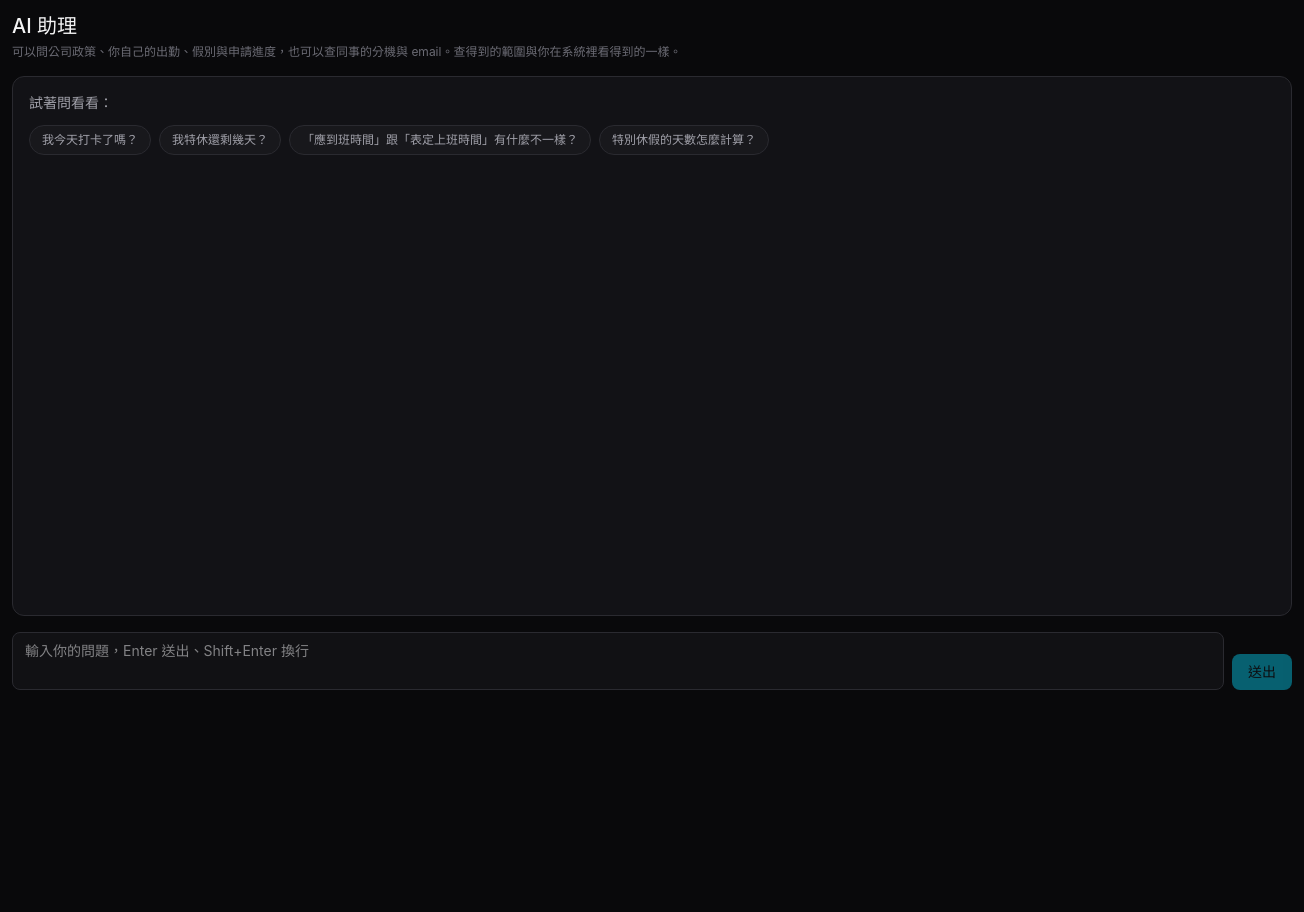
Test: 送出問題後顯示回答與依據來源
Step 1. Type "特別休假怎麼算？" into the text box with placeholder "輸入你的問題，Enter 送出、Shift+Enter 換行" → (618,661), box x1=12 y1=632 x2=1224 y2=690
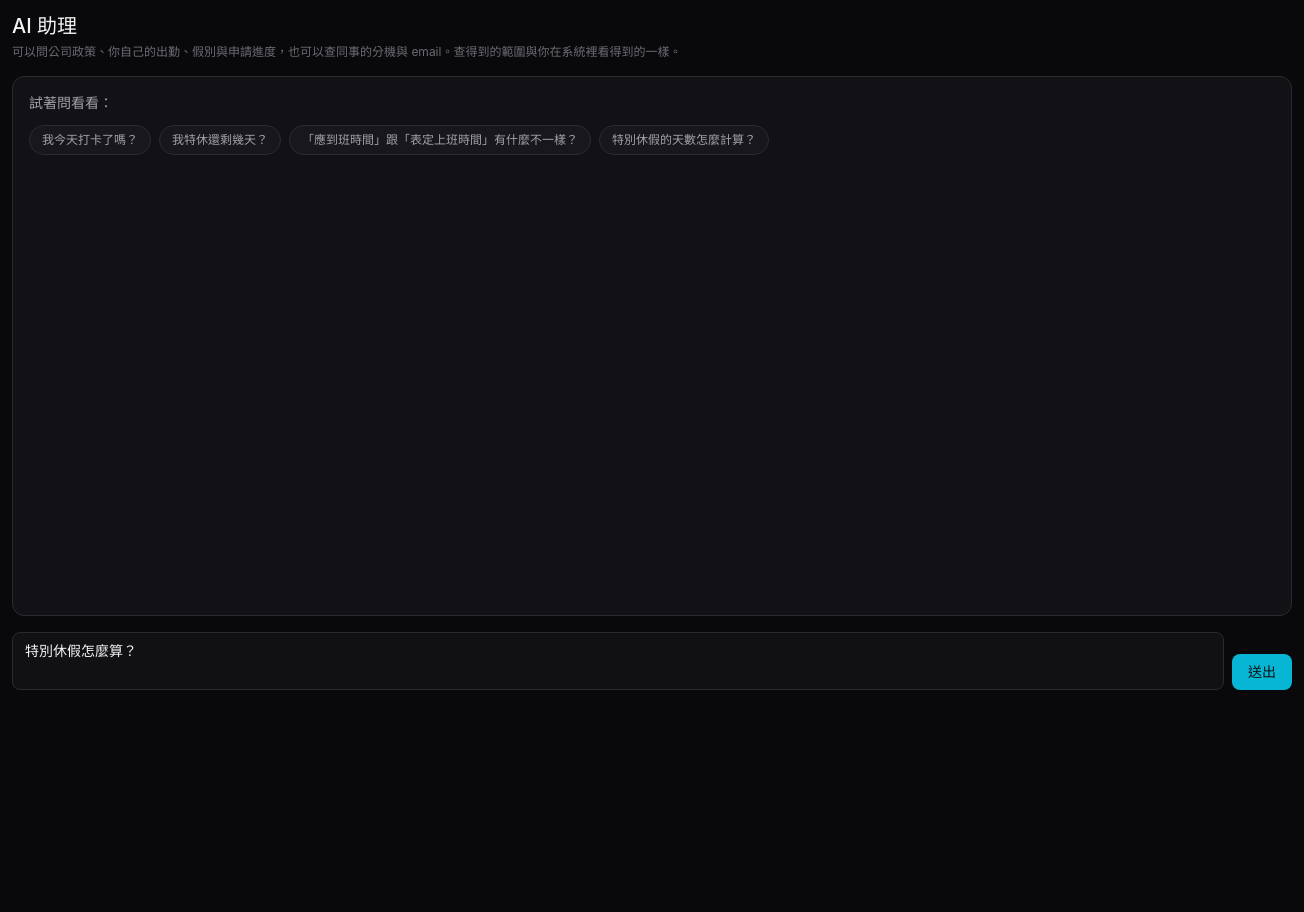
Step 2. Click the button "送出" → (1262,672), box x1=1232 y1=654 x2=1292 y2=690
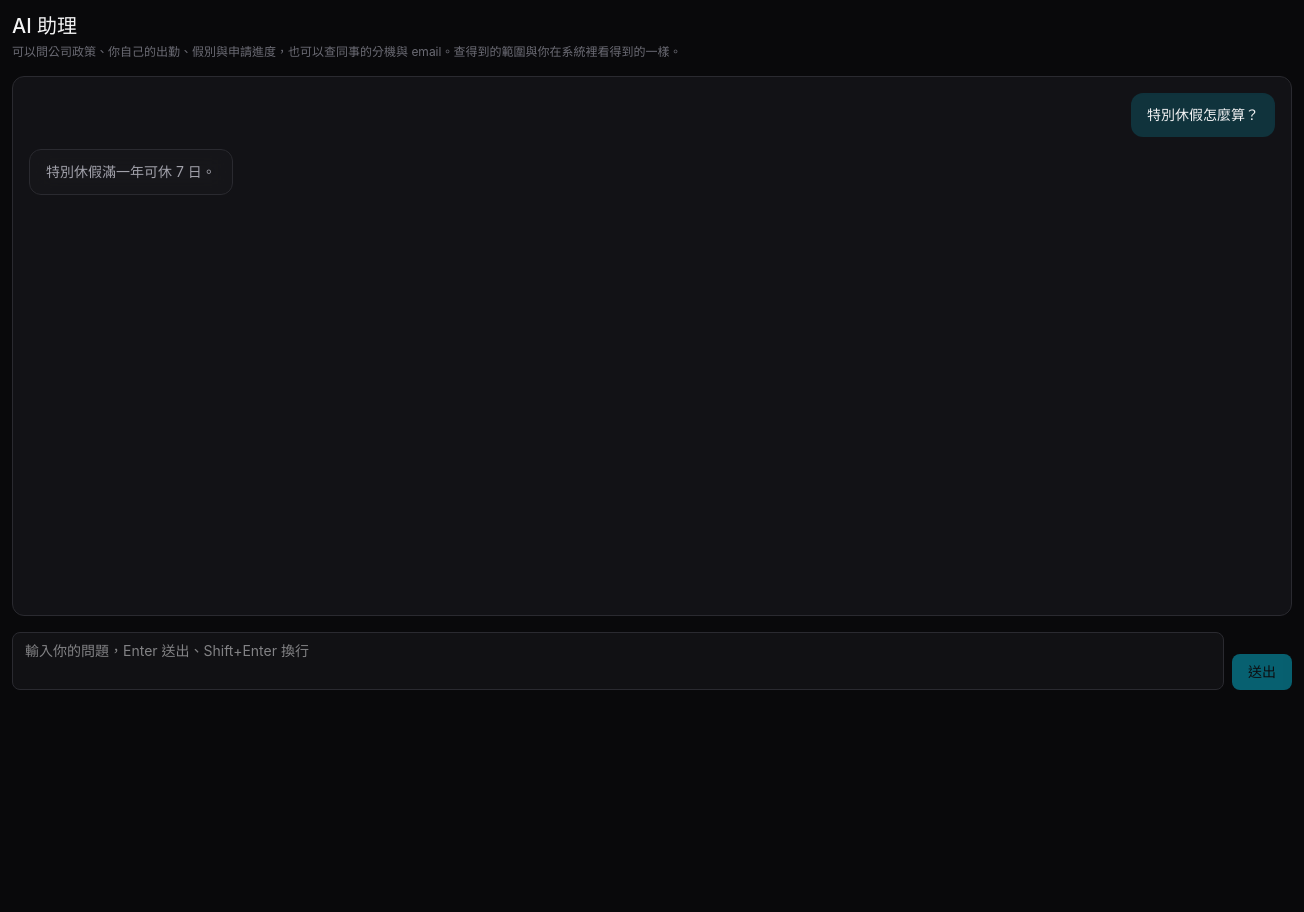
Now the text "特別休假滿一年可休 7 日。" is shown, box x1=46 y1=163 x2=216 y2=180
